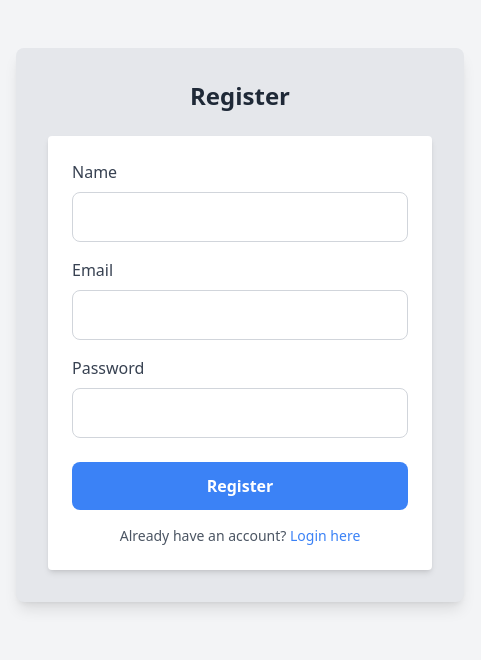
RegisterForm › submits form successfully with valid inputs
Type "Grape Doe" into the field labelled "Name" at [240, 217], box top-left (72, 192), bottom-right (408, 242)
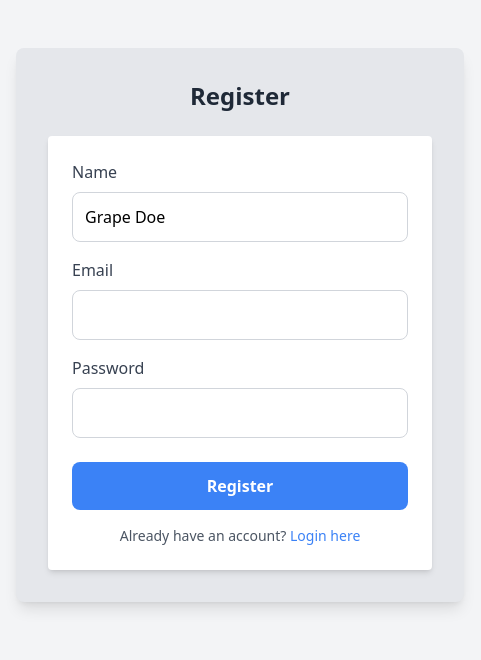
Type "grape@fruit.com" into the field labelled "Email" at [240, 315], box top-left (72, 290), bottom-right (408, 340)
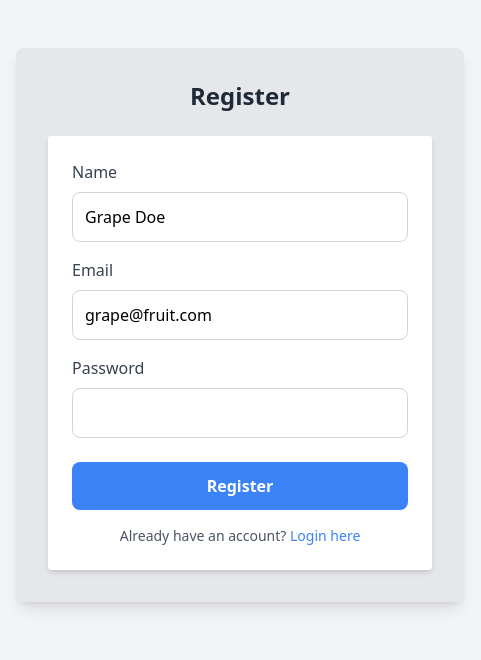
Type "password" into the password field labelled "Password" at [240, 413], box top-left (72, 388), bottom-right (408, 438)
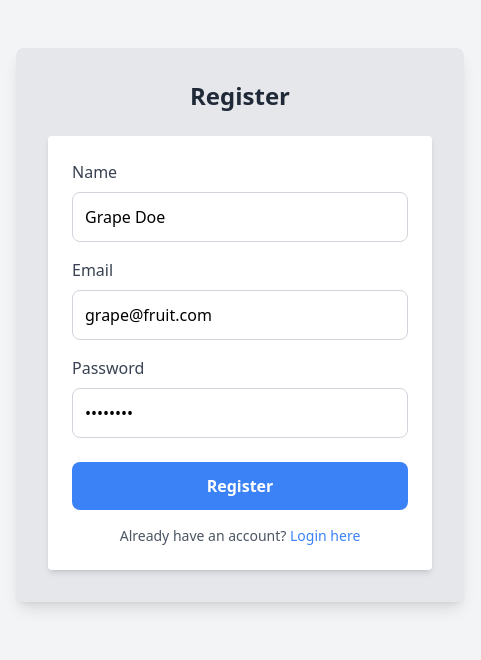
Click the button "Register" at [240, 486], box top-left (72, 462), bottom-right (408, 510)
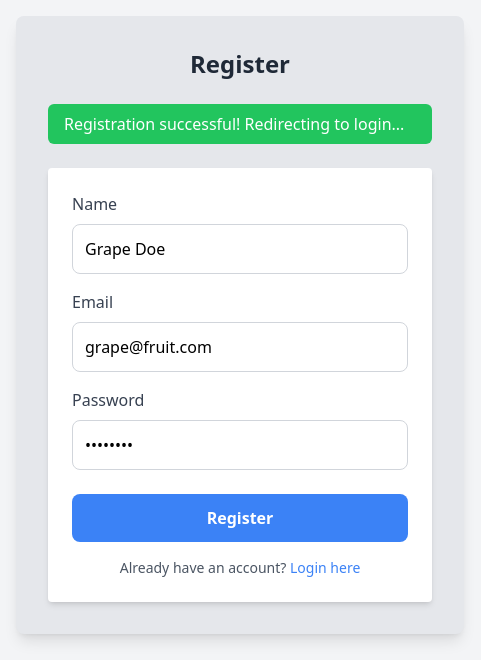
expect the text "Registration successful! Redirecting to login..." is shown: met, box top-left (48, 104), bottom-right (432, 144)
